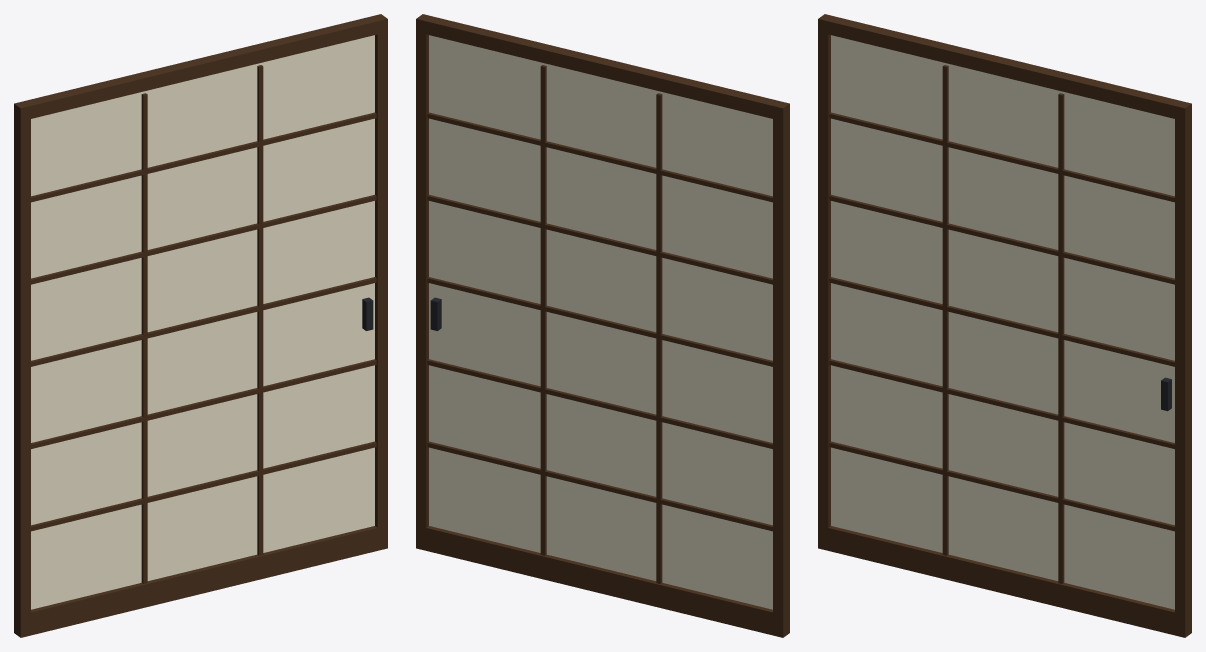
The model's file is SM_Door_shoji_160x220.fbx.
The picture shows the model from 3 angles, left to right: view 1: azimuth 30°, elevation 25°; view 2: azimuth 150°, elevation 25°; view 3: azimuth 330°, elevation 25°; orthographic projection.
Visible parts, largest first — view 1: SM_Door_shoji_160x220; view 2: SM_Door_shoji_160x220; view 3: SM_Door_shoji_160x220.
Boxes of the visible parts, x1,y1,x2,y2 form: SM_Door_shoji_160x220: (14, 14, 387, 637); SM_Door_shoji_160x220: (416, 14, 789, 637); SM_Door_shoji_160x220: (818, 14, 1191, 637).
Bounding box in the file's own units: 1.59 × 2.19 × 0.07.
